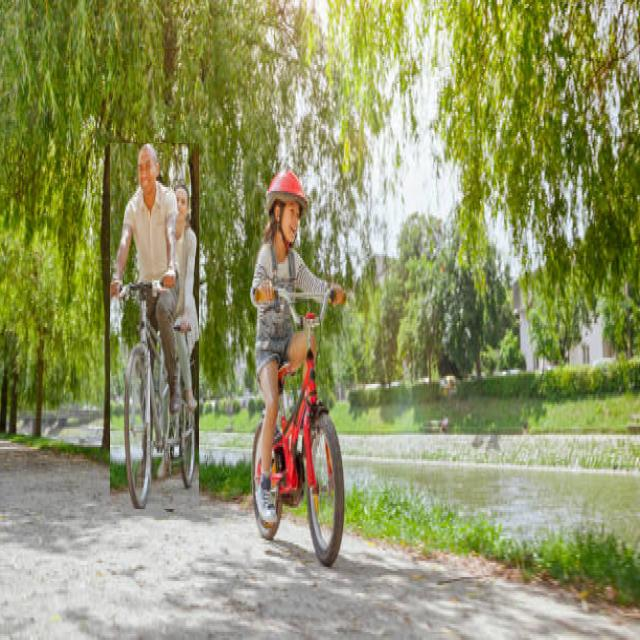bicycle: (251, 170, 345, 565), (110, 143, 199, 509)
